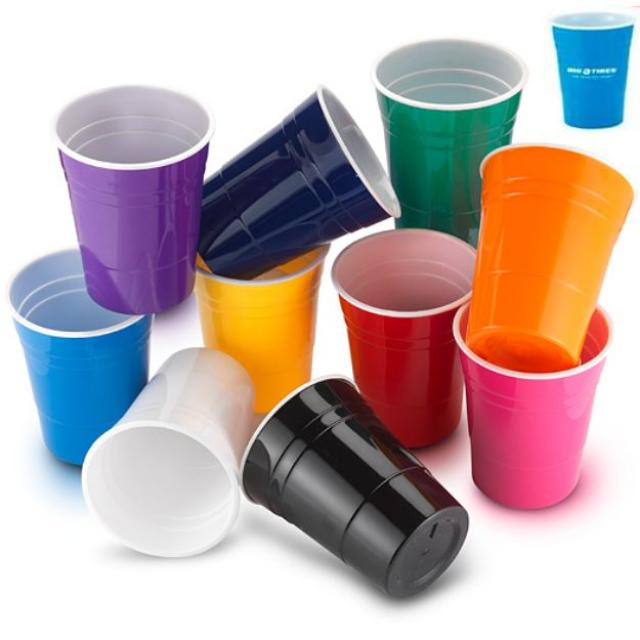Single-Use-Plastic: (242, 378, 468, 597), (199, 86, 400, 278), (466, 146, 632, 372), (82, 348, 256, 556), (55, 86, 212, 313), (454, 305, 612, 509), (372, 39, 528, 243), (332, 229, 475, 447), (9, 250, 152, 464), (195, 245, 327, 413), (551, 12, 634, 128)
